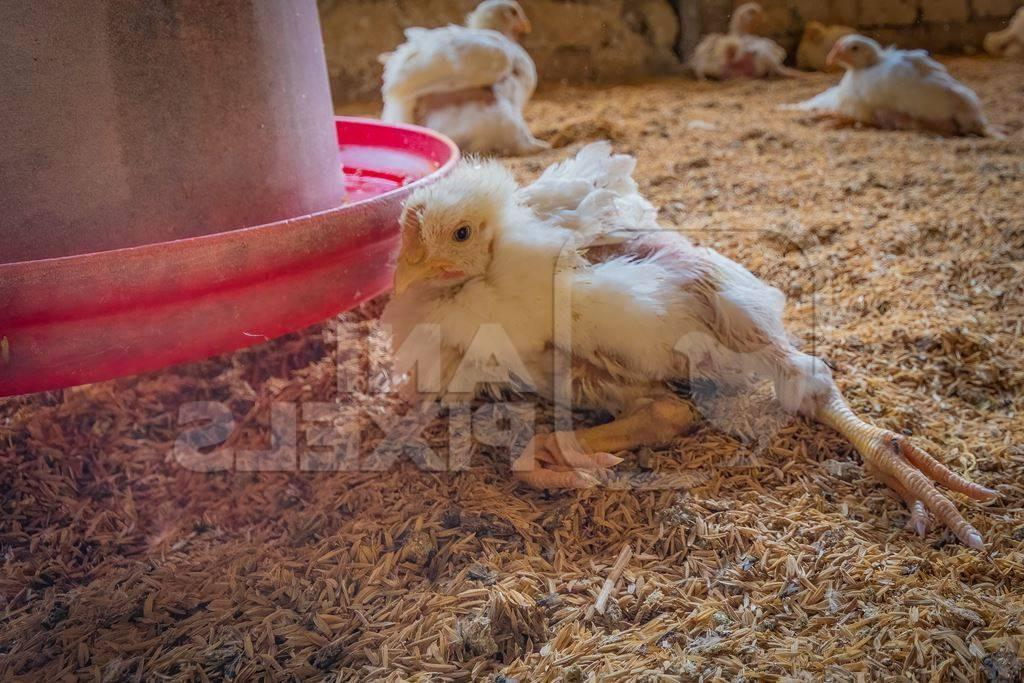AbNormal: (396, 167, 996, 561)
